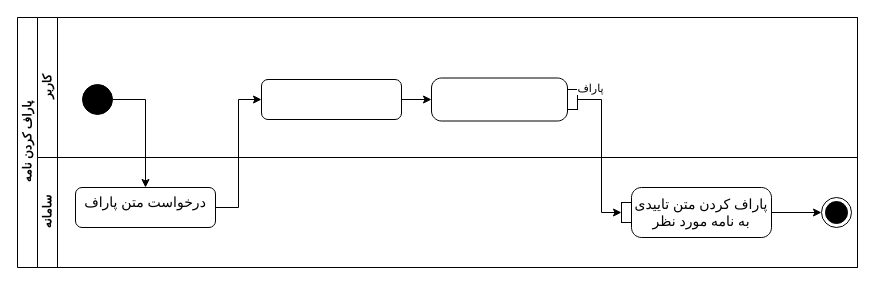
Image size: 875x285. Some labels were removed from this diagram. The centre of each missing label's shape, as x and y in pixels:
"تایید متن پاراف" goes at [504,99].
"وارد کردن متن پاراف" goes at [331,99].
